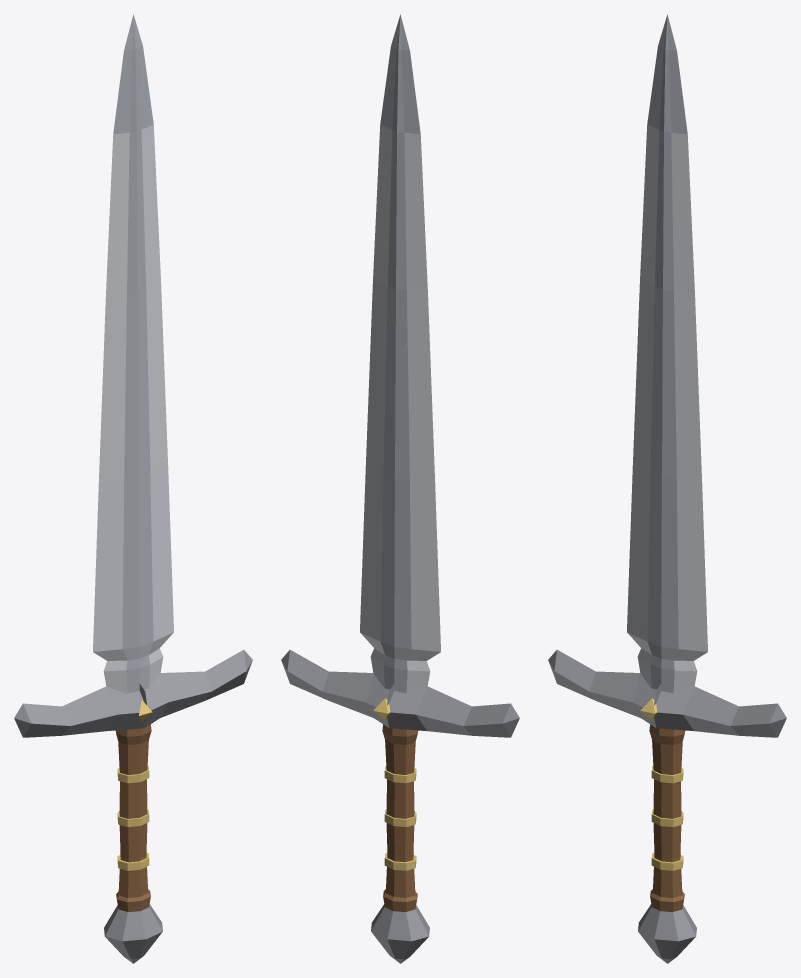
File: S01_Adventurer.glb
The picture shows the model from 3 angles, left to right: view 1: azimuth 30°, elevation 25°; view 2: azimuth 150°, elevation 25°; view 3: azimuth 330°, elevation 25°; orthographic projection.
Visible parts, largest first — view 1: S01_Adventurer.002; view 2: S01_Adventurer.002; view 3: S01_Adventurer.002.
Boxes of the visible parts, x1,y1,x2,y2 form: S01_Adventurer.002: [14, 14, 252, 963]; S01_Adventurer.002: [281, 14, 519, 963]; S01_Adventurer.002: [548, 14, 786, 963].
Size of the model in its own units: 0.4 by 1.52 by 0.0941.
